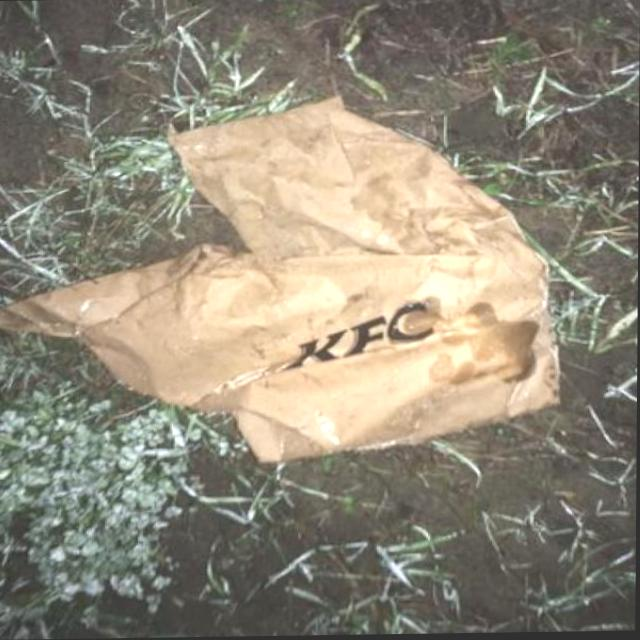Paper: (0, 90, 569, 470)
